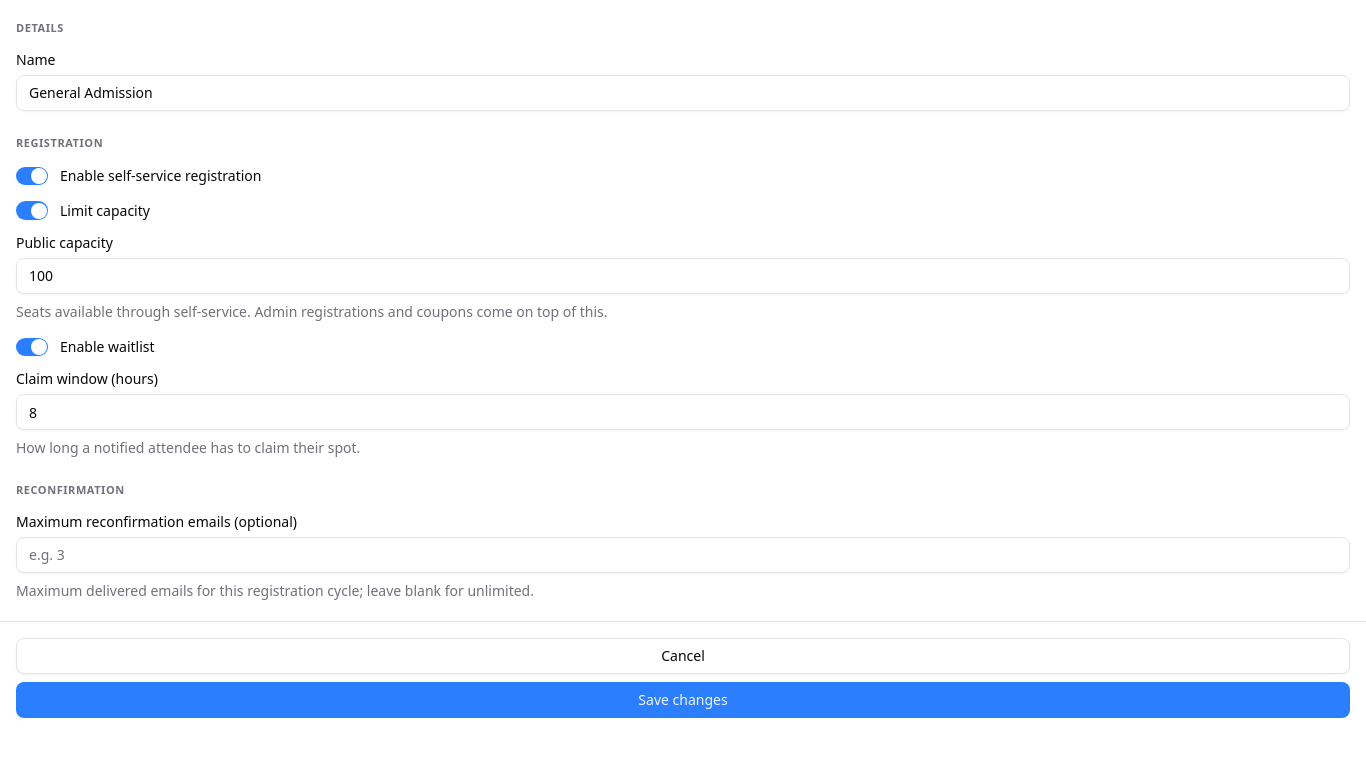
Test case: EditTicketTypeForm waitlist disable and capacity-limit removal › asks for confirmation with the removal wording when explicitly disabling an active waitlist
Click the switch named "enable waitlist" next to "Enable waitlist": (32, 347) [16,338,48,356]
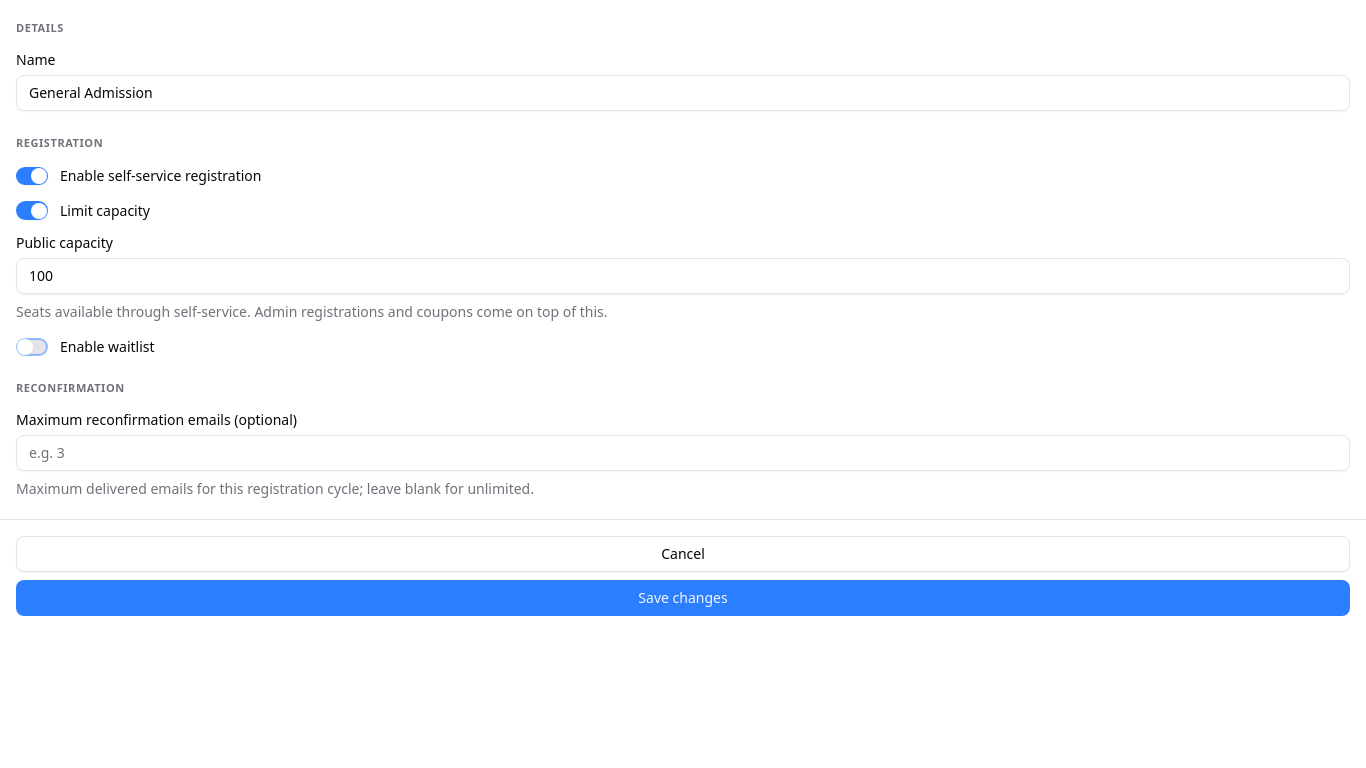
Click the button "Save changes": (683, 598) [16,580,1350,616]
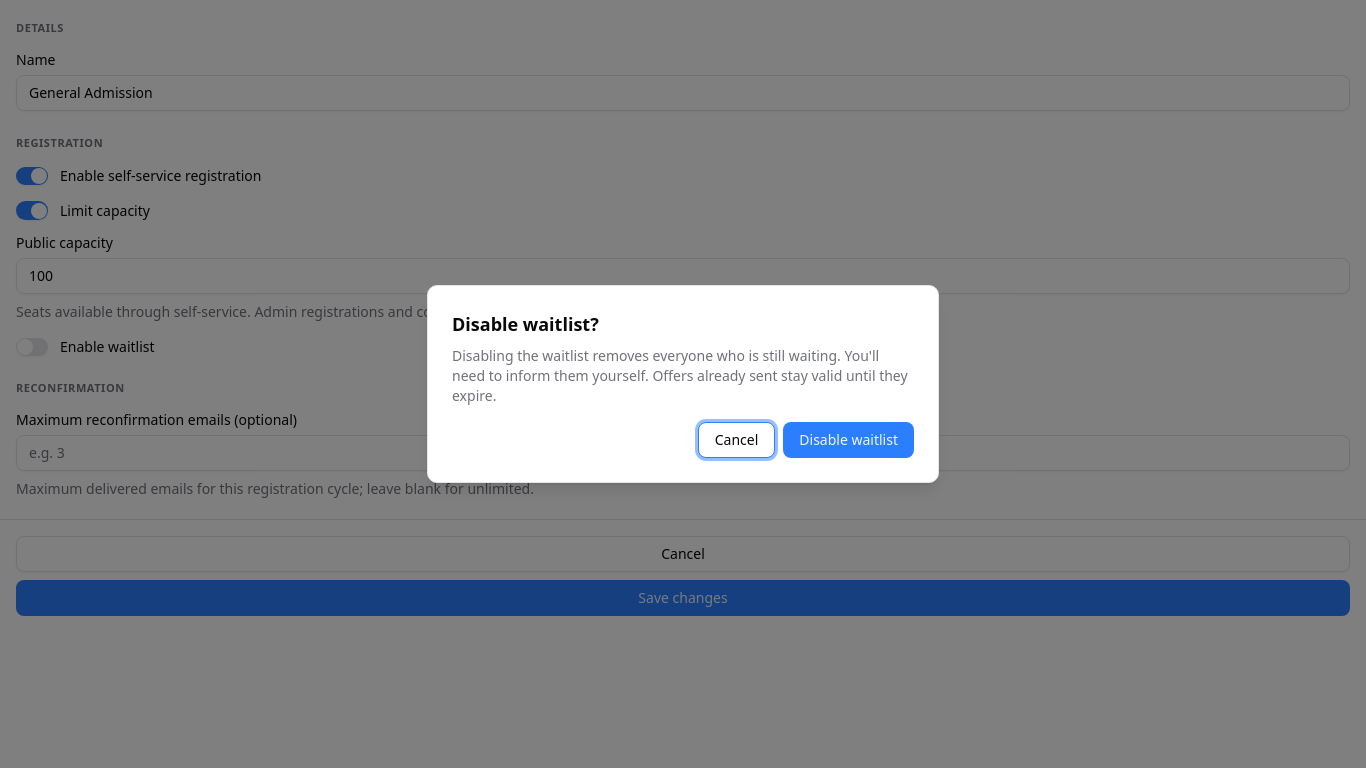
expect the dialog does not show "revoke": met, box [427,285,939,483]
expect the dialog shows "Disable waitlist?": met, box [452,312,599,336]
